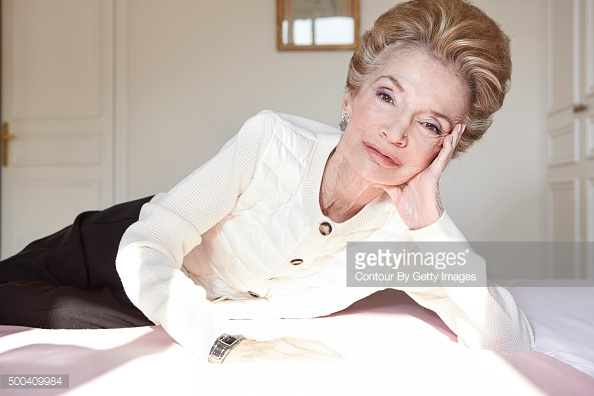deitado: (60, 5, 518, 396)
